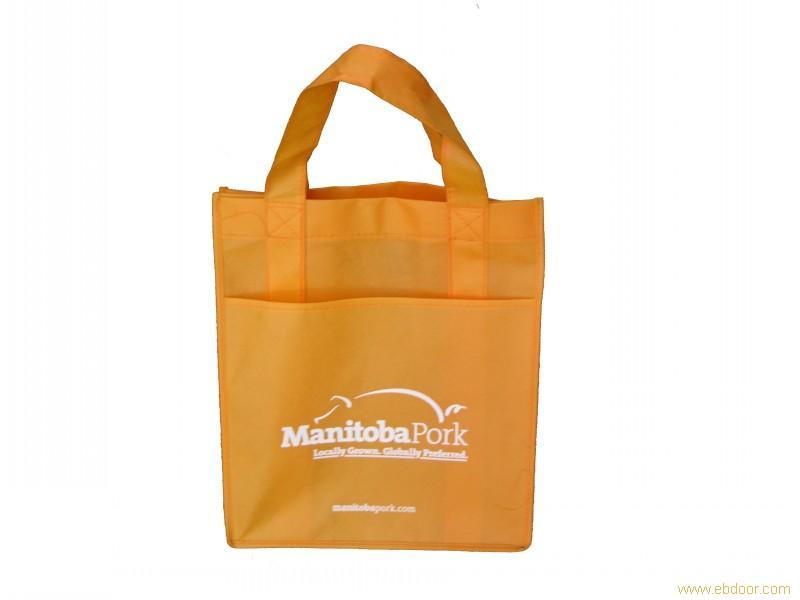flexible: (203, 44, 544, 563)
